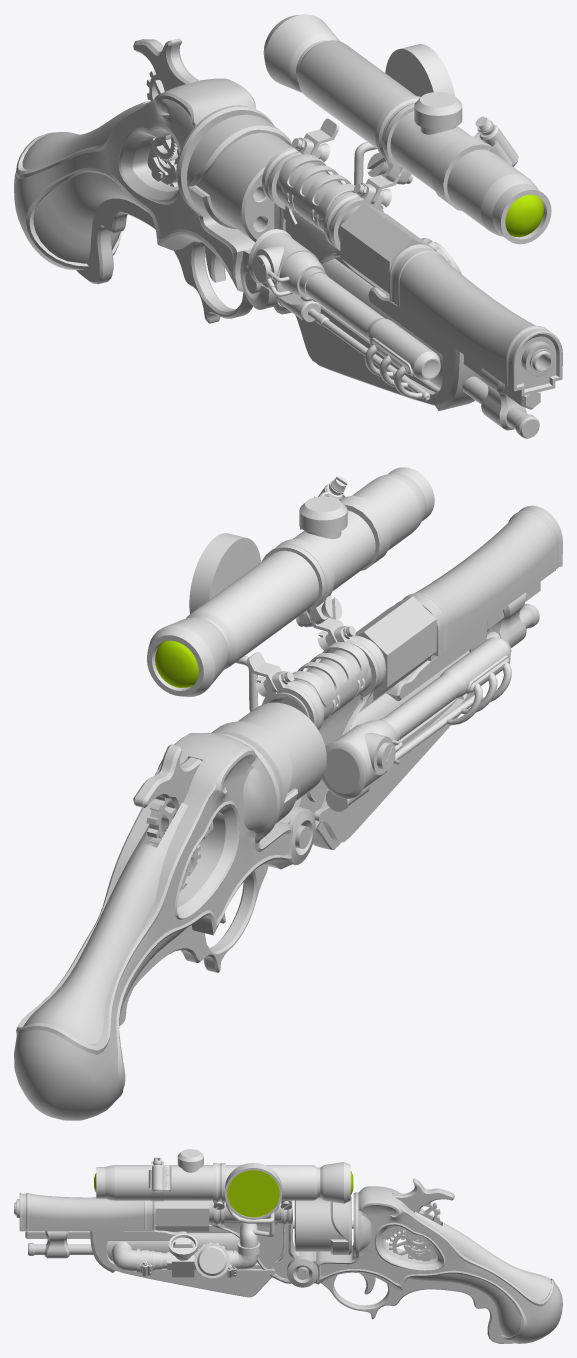
The model's file is Rifle.fbx.
The picture shows the model from 3 angles, top to bottom: view 1: azimuth 30°, elevation 25°; view 2: azimuth 150°, elevation 25°; view 3: azimuth 270°, elevation 25°; orthographic projection. The views are drawn at different scales.
Parts seen in each view (by area): view 1: Cylinder.051; view 2: Cylinder.051; view 3: Cylinder.051.
Boxes of the visible parts, box(x1,y1,x2,y2) form: Cylinder.051: box(14, 14, 562, 438); Cylinder.051: box(14, 467, 562, 1120); Cylinder.051: box(14, 1149, 562, 1343).
Size of the model in its own units: 30.13 by 62.95 by 153.
